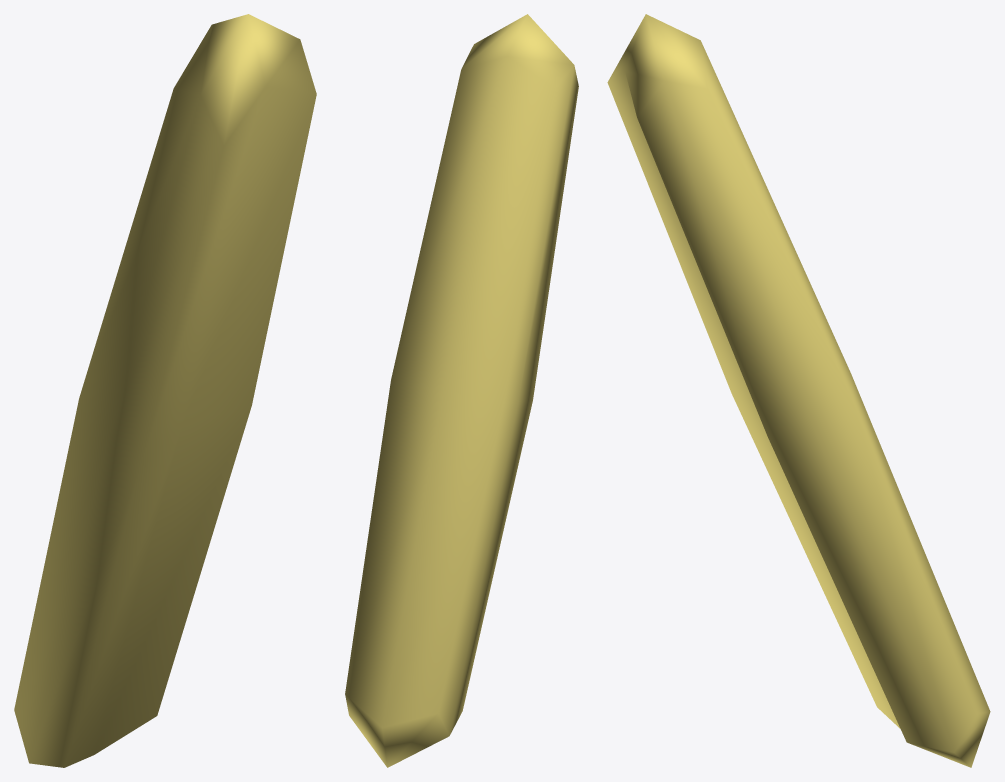
File: posterior-nucleus-of-vagus-nerve-r.glb
3 renders of one model, left to right at view 1: azimuth 30°, elevation 25°; view 2: azimuth 150°, elevation 25°; view 3: azimuth 270°, elevation 25°, orthographic. The views are drawn at different scales.
Visible parts, largest first — view 1: Posterior nucleus of vagus nerve.r; view 2: Posterior nucleus of vagus nerve.r; view 3: Posterior nucleus of vagus nerve.r.
Boxes of the visible parts, box(x1,y1,x2,y2) form: Posterior nucleus of vagus nerve.r: box(14, 14, 316, 767); Posterior nucleus of vagus nerve.r: box(345, 14, 578, 767); Posterior nucleus of vagus nerve.r: box(607, 14, 990, 767).
Bounding box in the file's own units: 0.0013 × 0.00771 × 0.00355.
